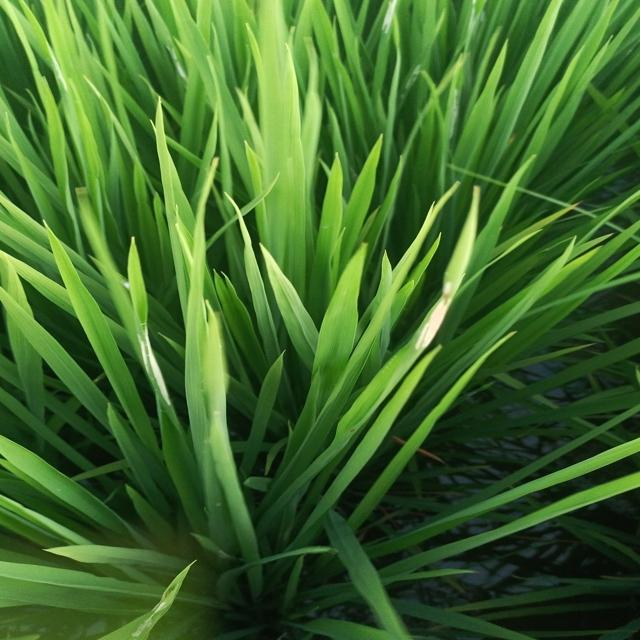brown plant hopper: (133, 316, 182, 410), (412, 278, 466, 354)
